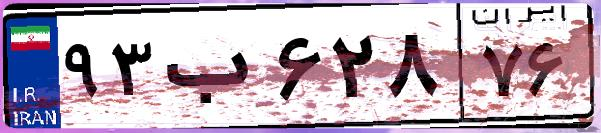2: (330, 28, 385, 110)
3: (110, 28, 158, 98)
6: (270, 28, 330, 110), (525, 38, 570, 115)
7: (475, 38, 525, 113)
8: (385, 28, 445, 110)
9: (57, 26, 110, 100)
ب: (158, 20, 270, 120)
